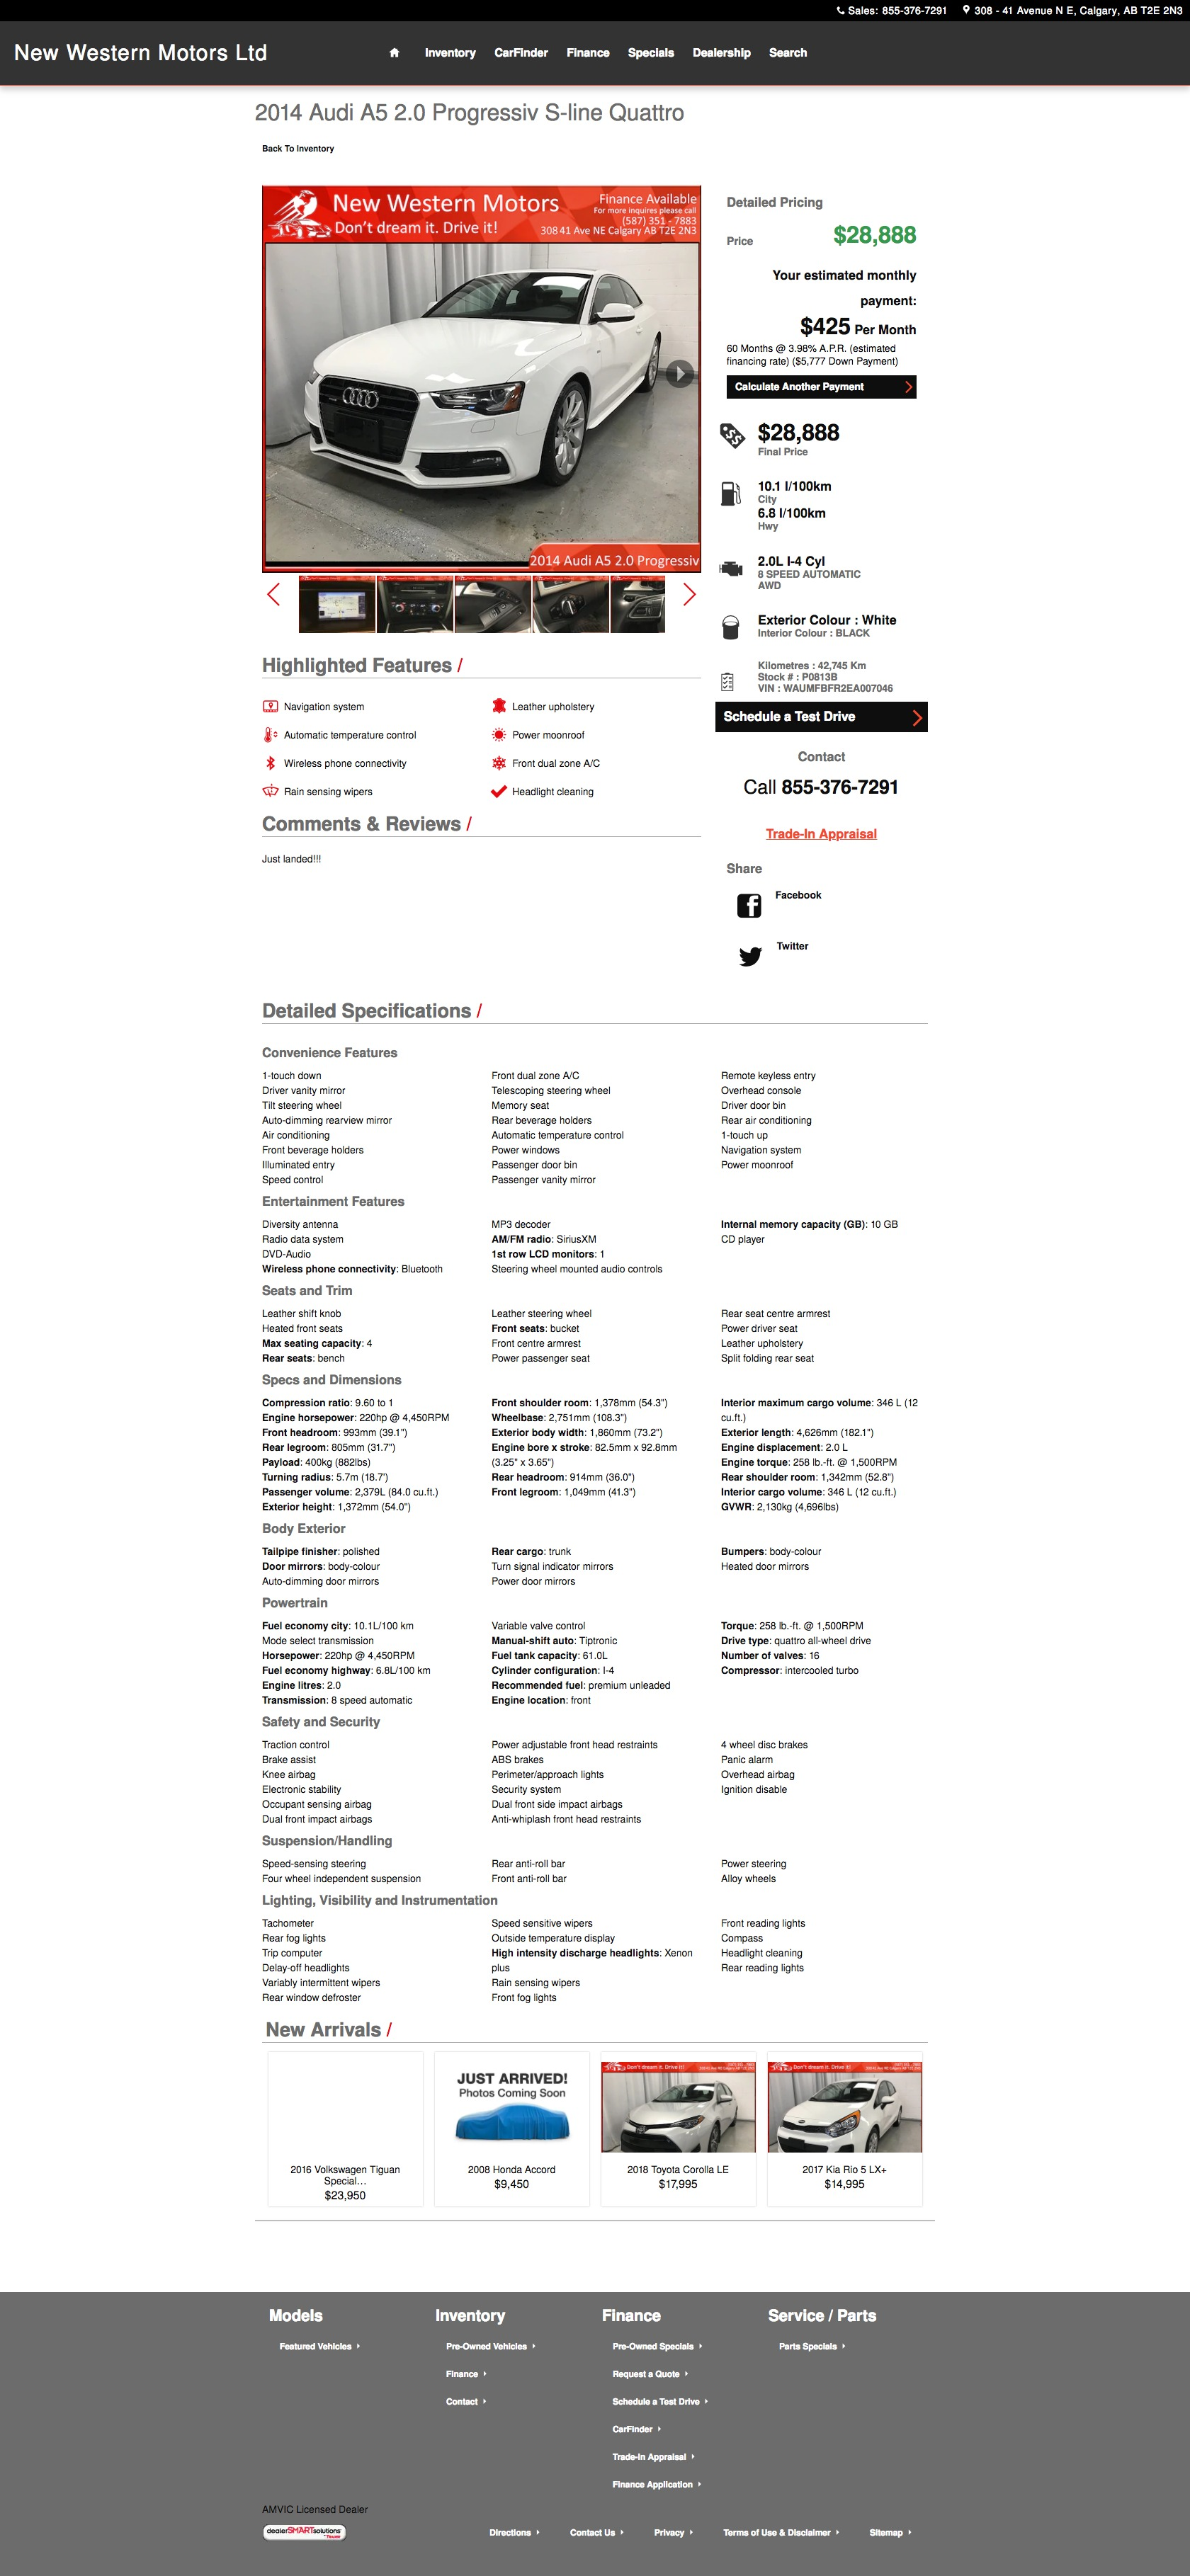car: (682, 582, 699, 608)
